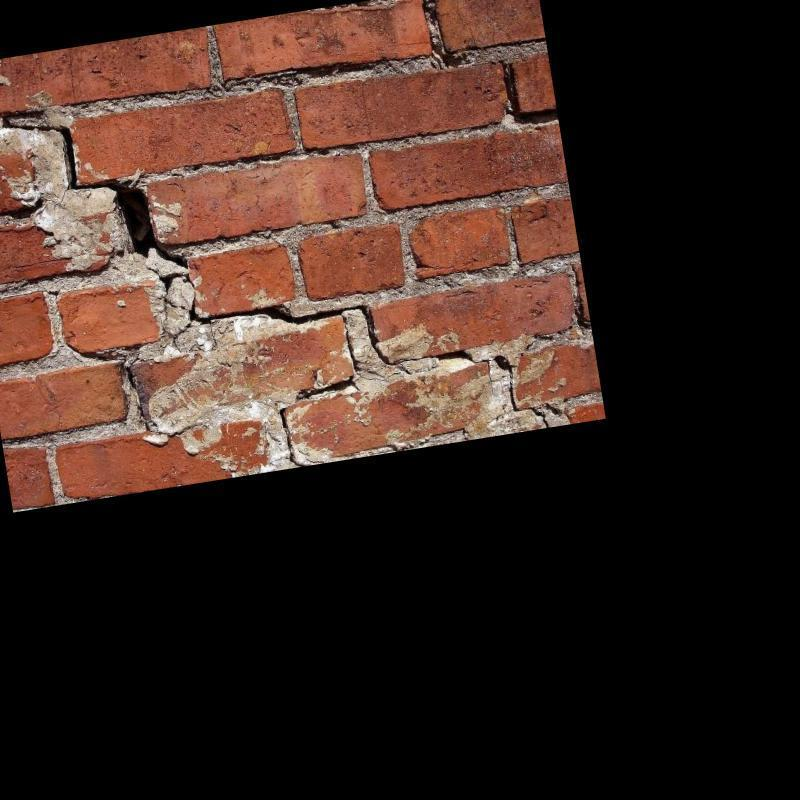crack: (0, 113, 188, 268), (188, 299, 392, 365), (278, 408, 311, 467), (305, 378, 354, 397), (158, 273, 181, 292)
